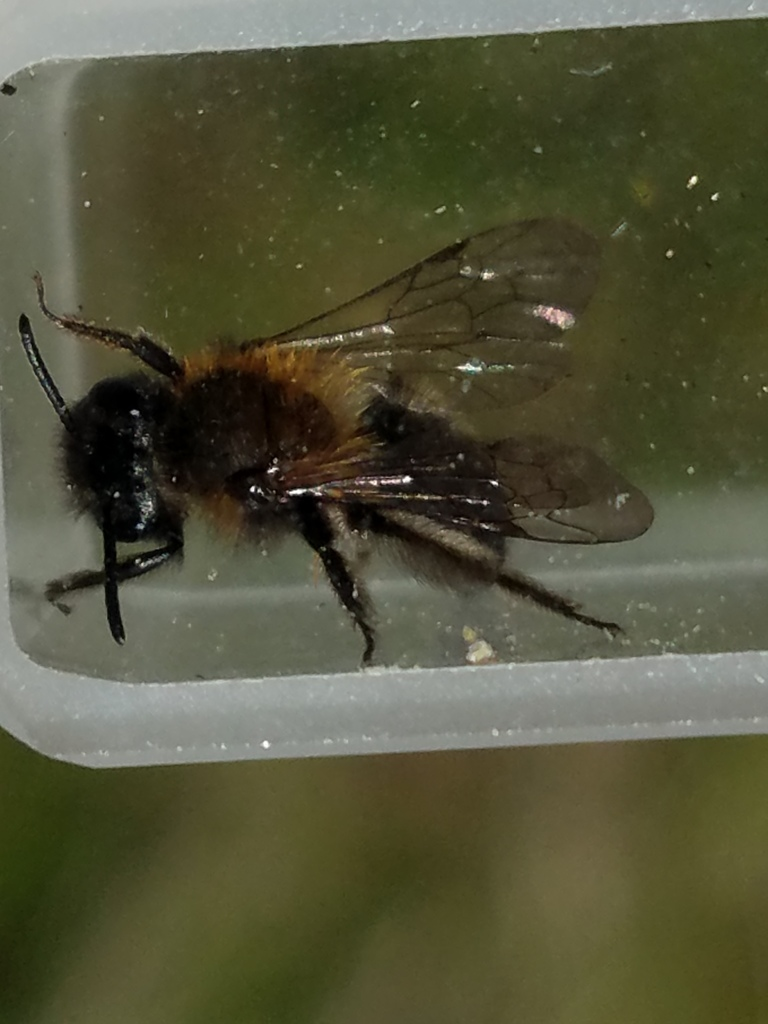not_bumblebee: (17, 217, 658, 671)
